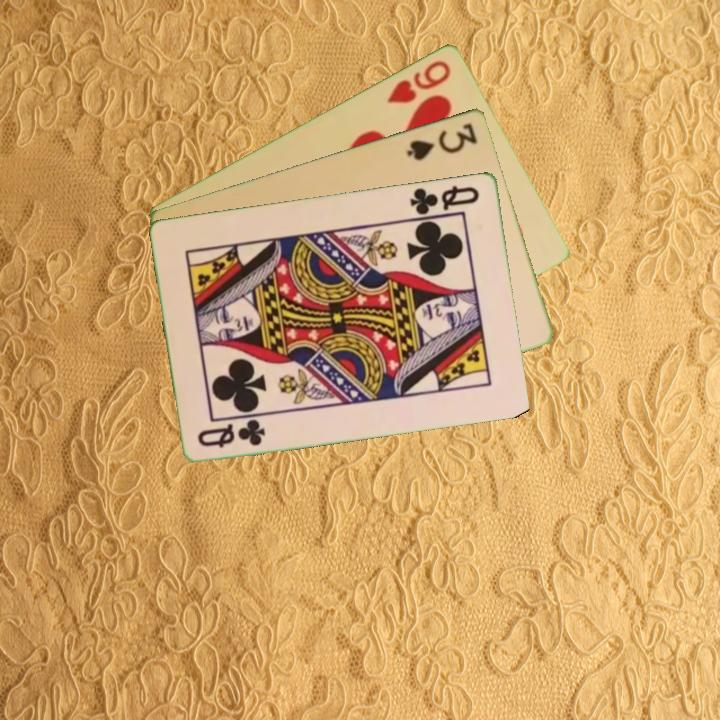3s: (403, 119, 481, 163)
9h: (383, 56, 454, 106)
Qc: (406, 182, 483, 221), (194, 416, 269, 450)
